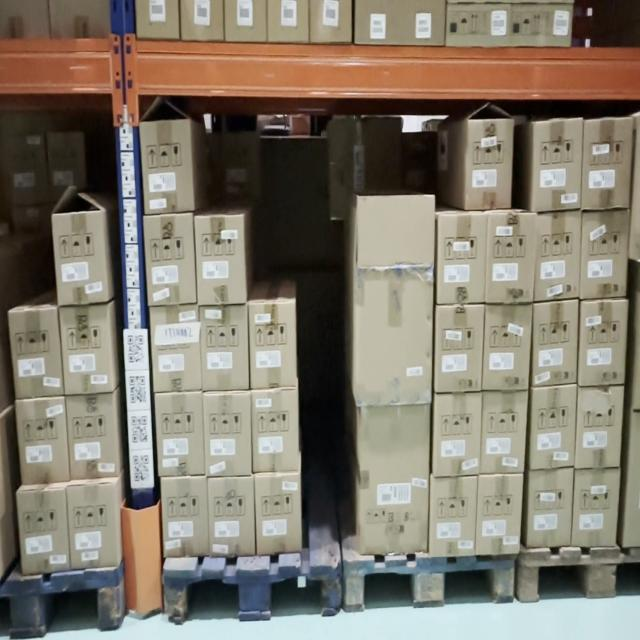box: (361, 408, 426, 550), (361, 276, 427, 396), (10, 305, 63, 400), (143, 123, 196, 211), (62, 304, 112, 396), (53, 219, 108, 302), (16, 489, 67, 572), (437, 304, 484, 392), (66, 398, 115, 481), (585, 118, 629, 207), (440, 215, 486, 300), (69, 483, 116, 566), (152, 312, 201, 391), (534, 215, 580, 298), (145, 221, 193, 300), (17, 396, 65, 475), (535, 124, 580, 208), (489, 216, 533, 300), (202, 314, 248, 393), (433, 401, 480, 476), (534, 307, 578, 387), (470, 122, 509, 211), (581, 303, 624, 383), (157, 398, 203, 472), (584, 219, 630, 291), (211, 478, 257, 550), (254, 390, 296, 468), (486, 309, 529, 385), (256, 478, 300, 552), (250, 308, 294, 382), (204, 396, 248, 469), (200, 219, 240, 299), (476, 481, 522, 550), (481, 396, 525, 468), (429, 482, 473, 552), (533, 391, 572, 468), (165, 480, 206, 551), (580, 391, 622, 460), (532, 472, 571, 539), (577, 475, 615, 543)
